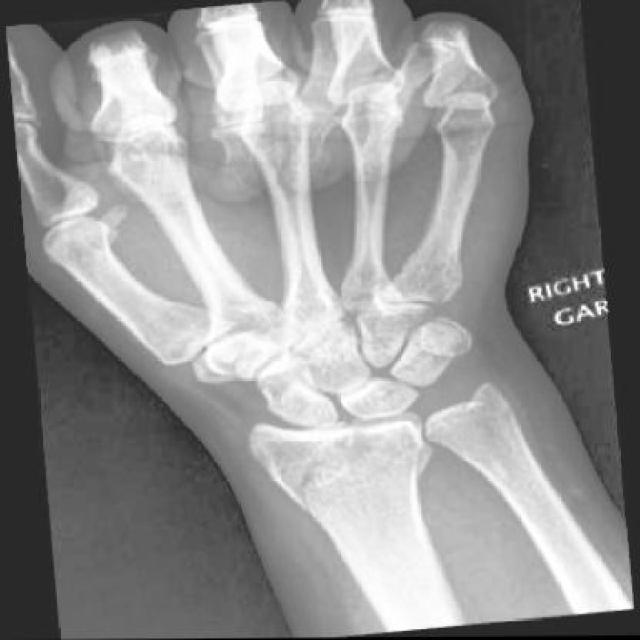Fracture: (278, 441, 417, 507)
